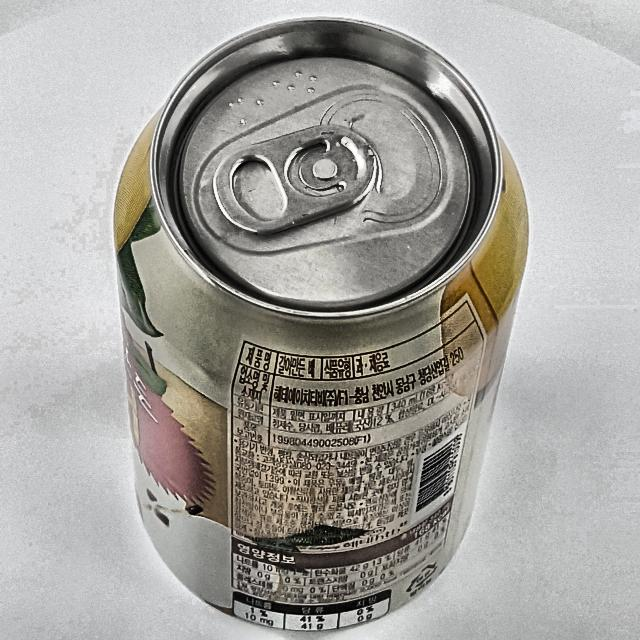galamandeunbae: (115, 18, 528, 630)
